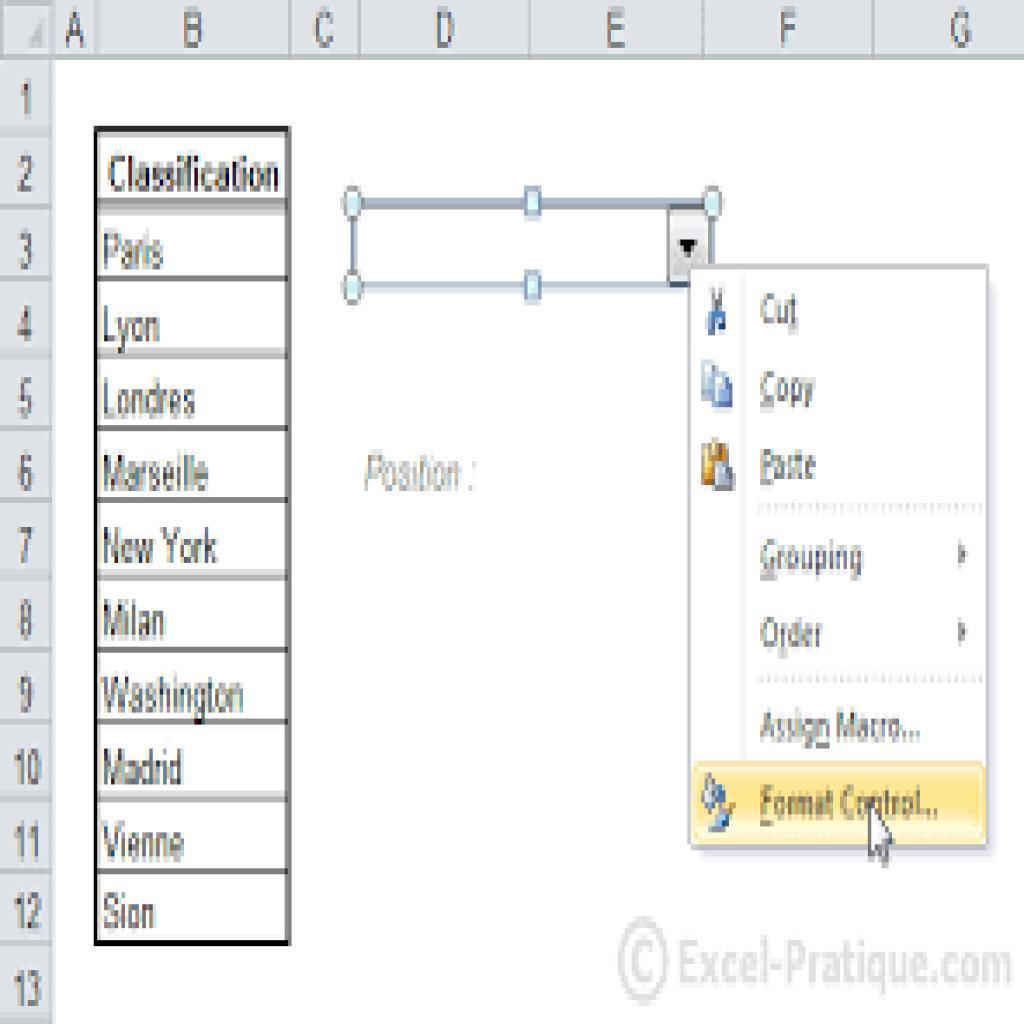dropdown: (350, 201, 713, 291)
icon: (694, 770, 742, 837), (698, 436, 742, 494), (699, 354, 738, 412), (705, 285, 732, 341), (950, 540, 975, 572), (950, 617, 975, 647)
label: (751, 708, 926, 751), (754, 364, 821, 414), (757, 444, 823, 492), (758, 287, 803, 337)
table: (1, 4, 295, 946)
